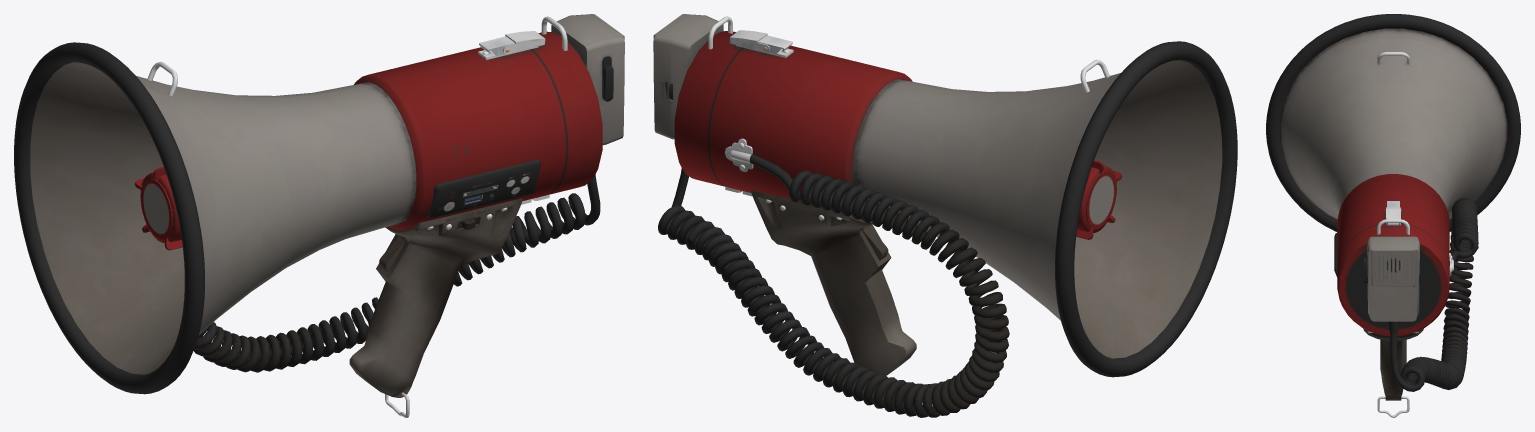
The model's file is megaphone.glb.
3 views of the same model, side by side, from view 1: azimuth 30°, elevation 25°; view 2: azimuth 150°, elevation 25°; view 3: azimuth 270°, elevation 25° (orthographic). The views are drawn at different scales.
Visible parts, largest first — view 1: Megaphone_01; view 2: Megaphone_01; view 3: Megaphone_01.
Boxes of the visible parts, left/top/right/bottom form: Megaphone_01: left=14, top=14, right=624, bottom=417; Megaphone_01: left=653, top=14, right=1237, bottom=417; Megaphone_01: left=1266, top=14, right=1520, bottom=417.
Size of the model in its own units: 0.3707 by 0.3001 by 0.2284.
1 material, 1 textured.
